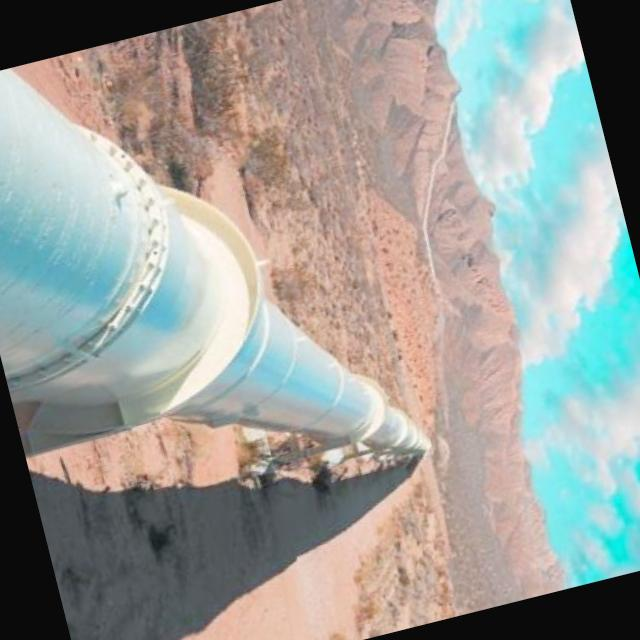gas: (0, 69, 430, 453)
